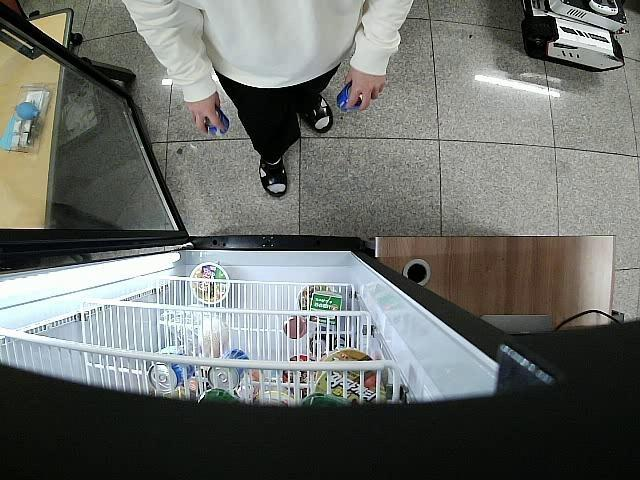13_pocariSweat: (202, 108, 231, 137), (336, 82, 365, 110)
